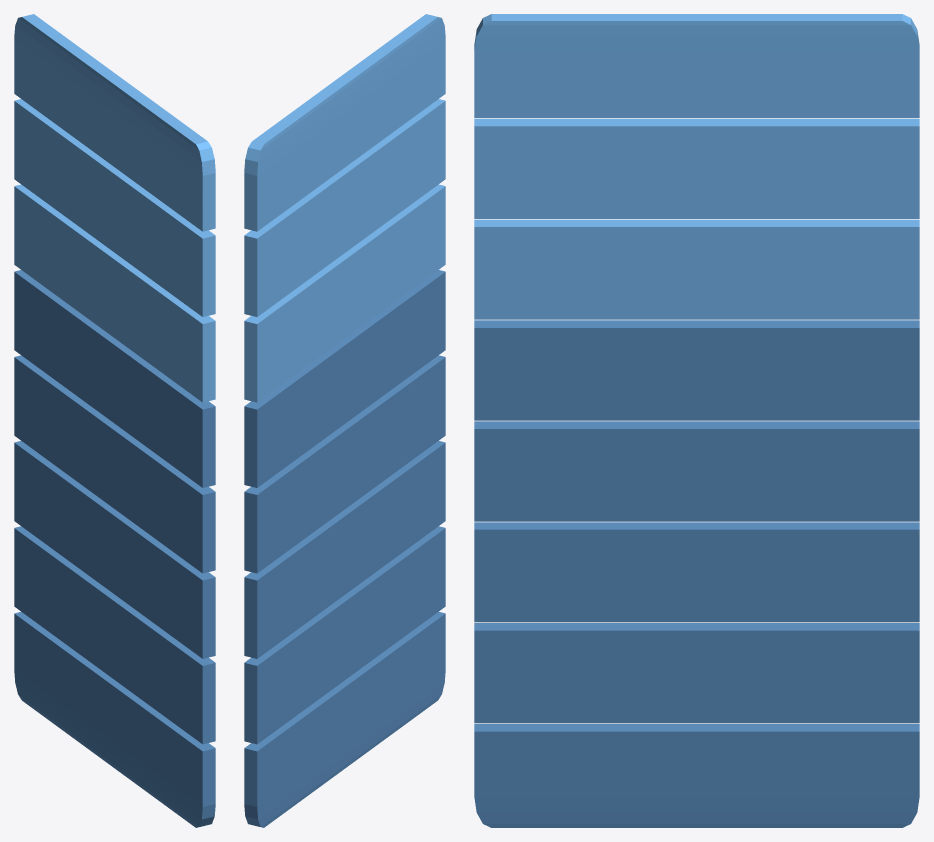
Rendered from Volume.fbx.
The picture shows the model from 3 angles, left to right: view 1: azimuth 30°, elevation 25°; view 2: azimuth 150°, elevation 25°; view 3: azimuth 270°, elevation 25°; orthographic projection. The views are drawn at different scales.
Parts seen in each view (by area): view 1: Cube; view 2: Cube; view 3: Cube.
Part boxes in pixels (left/top/right/bottom): Cube: left=14, top=14, right=215, bottom=827; Cube: left=244, top=14, right=445, bottom=827; Cube: left=474, top=14, right=919, bottom=827.
Bounding box in the file's own units: 4 × 200 × 100.
